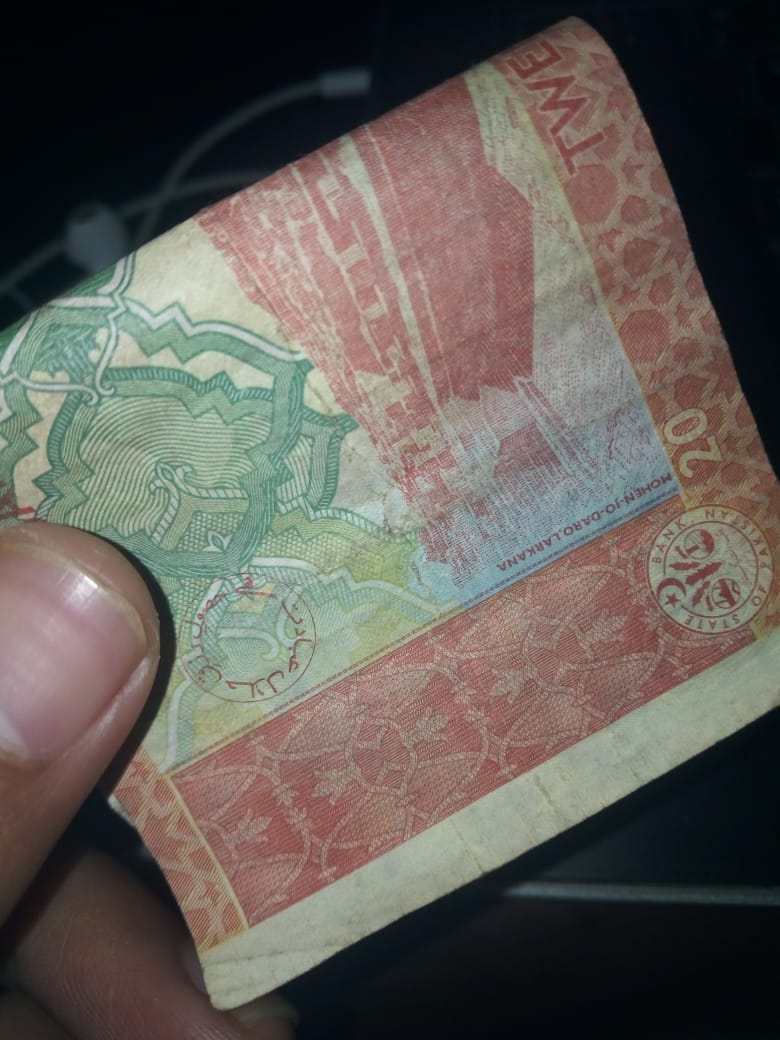20 rupee: (14, 40, 775, 1040)
